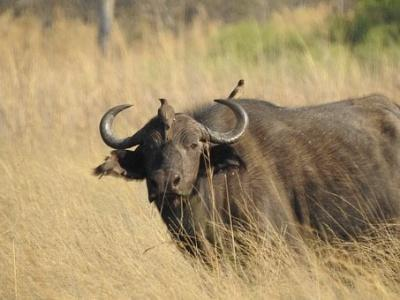buffalo: (94, 79, 399, 249)
